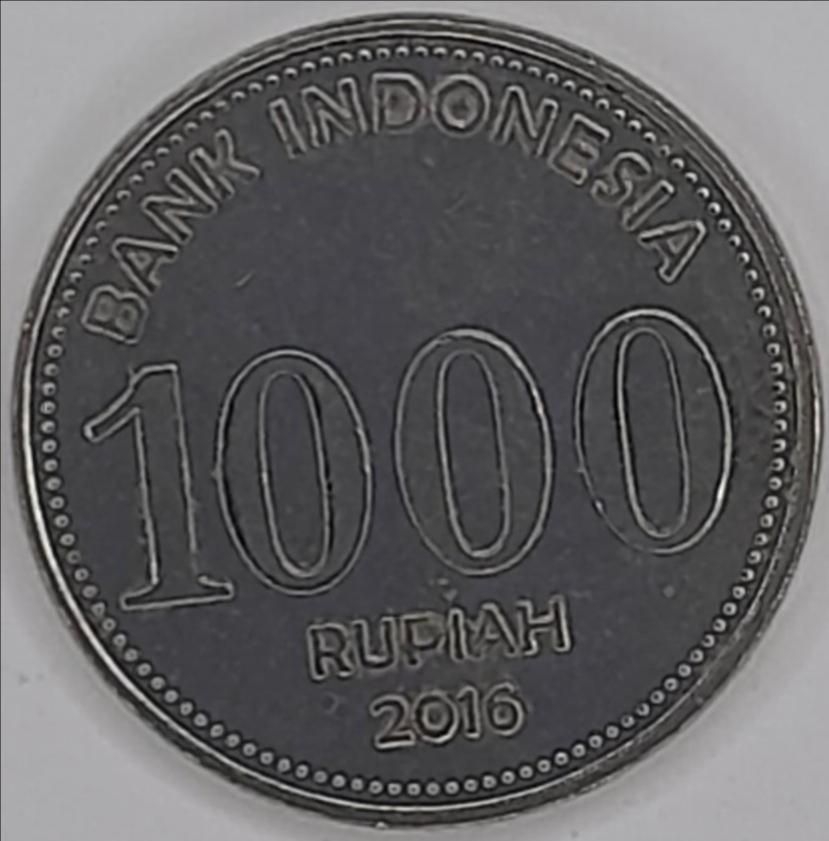coin_1000_e2016: (14, 17, 818, 841)
